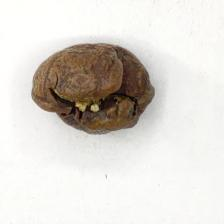NG: (39, 54, 146, 133)
